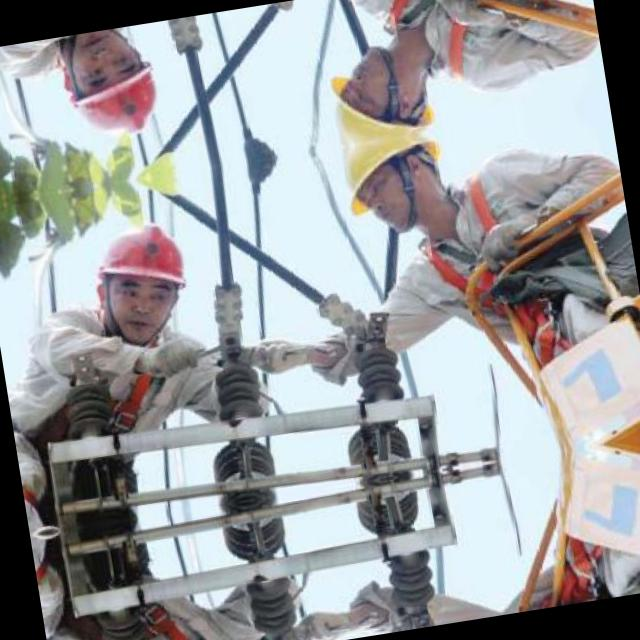helmet: (74, 205, 206, 348), (45, 22, 177, 158), (308, 35, 444, 148), (324, 132, 459, 245)
